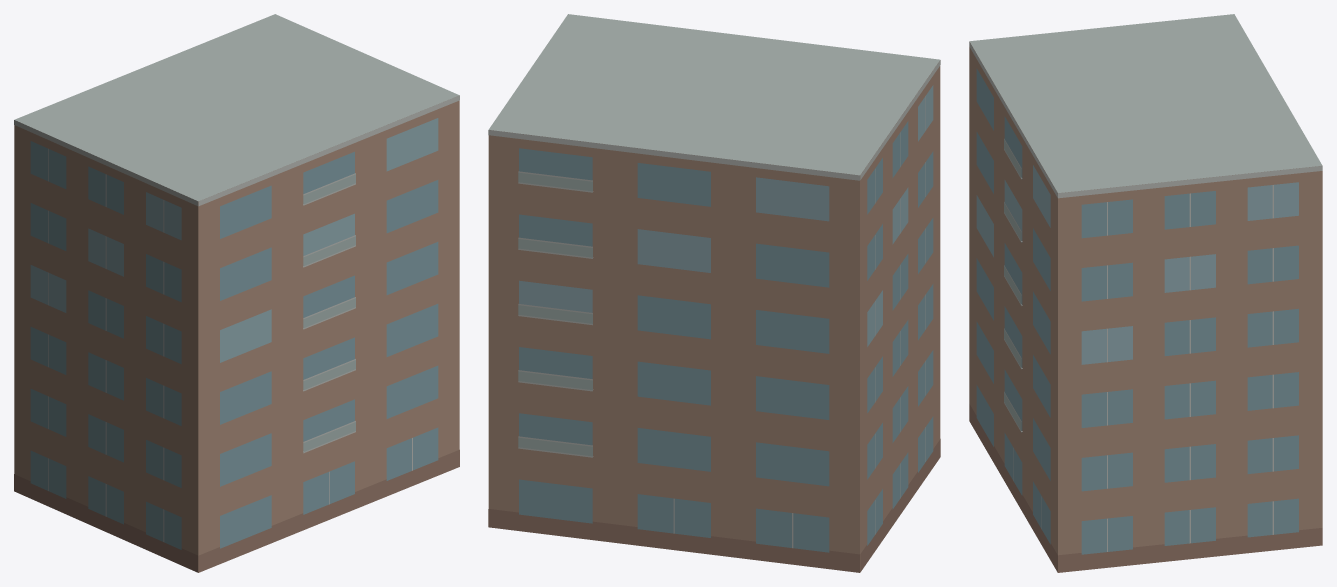
Rendered from survey-upis-32744077.glb.
3 renders of one model, left to right at view 1: azimuth 30°, elevation 25°; view 2: azimuth 150°, elevation 25°; view 3: azimuth 270°, elevation 25°, orthographic. The views are drawn at different scales.
Parts seen in each view (by area): view 1: survey-upis-32744077.tmp; view 2: survey-upis-32744077.tmp; view 3: survey-upis-32744077.tmp.
Part boxes in pixels (left/top/right/bottom): survey-upis-32744077.tmp: left=14, top=14, right=459, bottom=572; survey-upis-32744077.tmp: left=488, top=14, right=940, bottom=572; survey-upis-32744077.tmp: left=969, top=14, right=1322, bottom=572.
Bounding box in the file's own units: 18.23 × 18 × 15.19.
